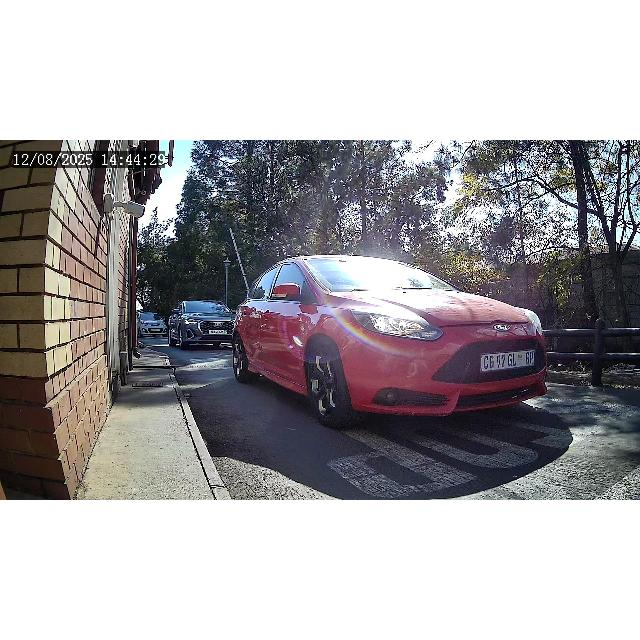car: (230, 254, 550, 422), (174, 300, 236, 350), (135, 309, 167, 336)
plate: (481, 353, 531, 369), (210, 328, 228, 336)
